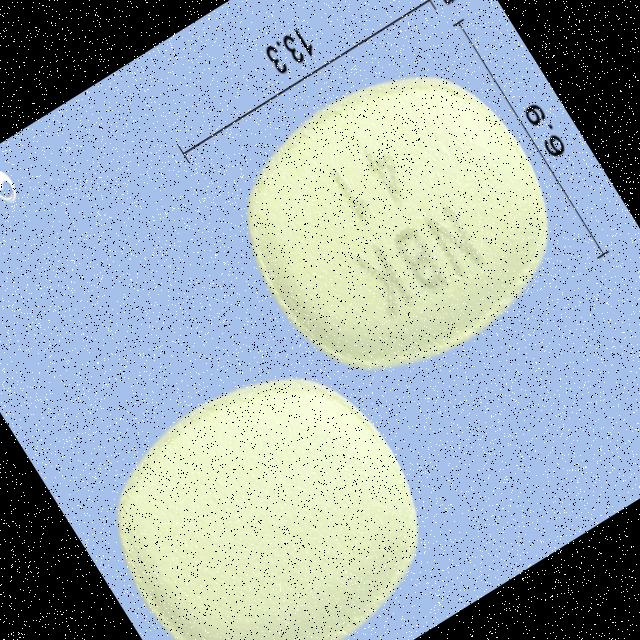Lathrocin: (202, 31, 594, 417), (74, 331, 464, 640)
